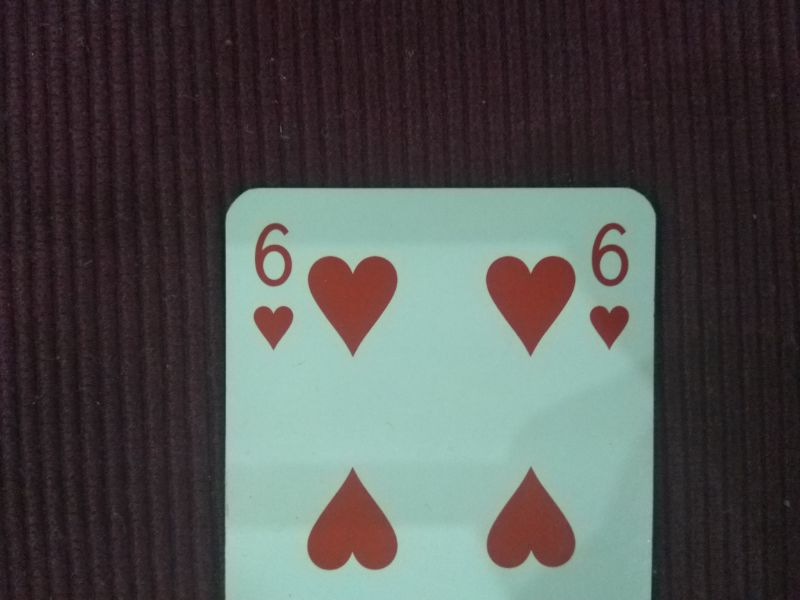6h: (238, 216, 300, 357), (582, 216, 639, 353)
